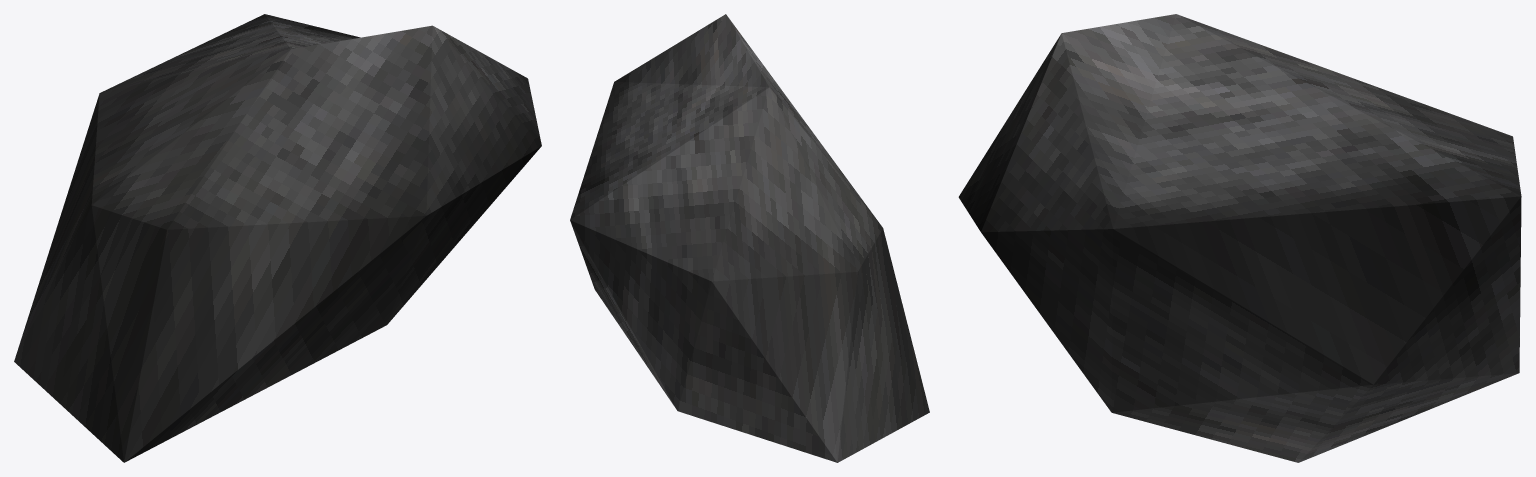
Rendered from stoneSmallV1.glb.
3 renders of one model, left to right at view 1: azimuth 30°, elevation 25°; view 2: azimuth 150°, elevation 25°; view 3: azimuth 270°, elevation 25°, orthographic. The views are drawn at different scales.
Visible parts, largest first — view 1: Icosphere; view 2: Icosphere; view 3: Icosphere.
Boxes of the visible parts, x1,y1,x2,y2 form: Icosphere: [14, 14, 541, 462]; Icosphere: [570, 14, 929, 462]; Icosphere: [958, 14, 1521, 462].
Bounding box in the file's own units: 1.85 × 1.76 × 1.78.
Materials: 1 (1 with a texture image).
